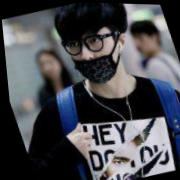NONE: (38, 56, 65, 80), (131, 31, 154, 55)
WRONG: (59, 18, 127, 88)
